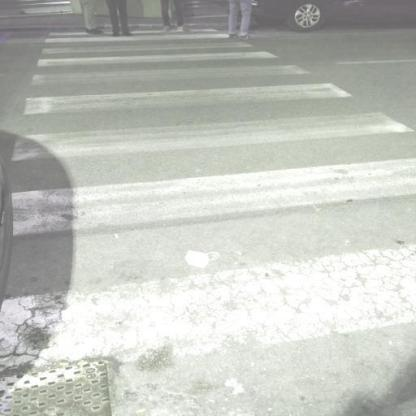crosswalk: (0, 153, 415, 401), (19, 63, 356, 118)
